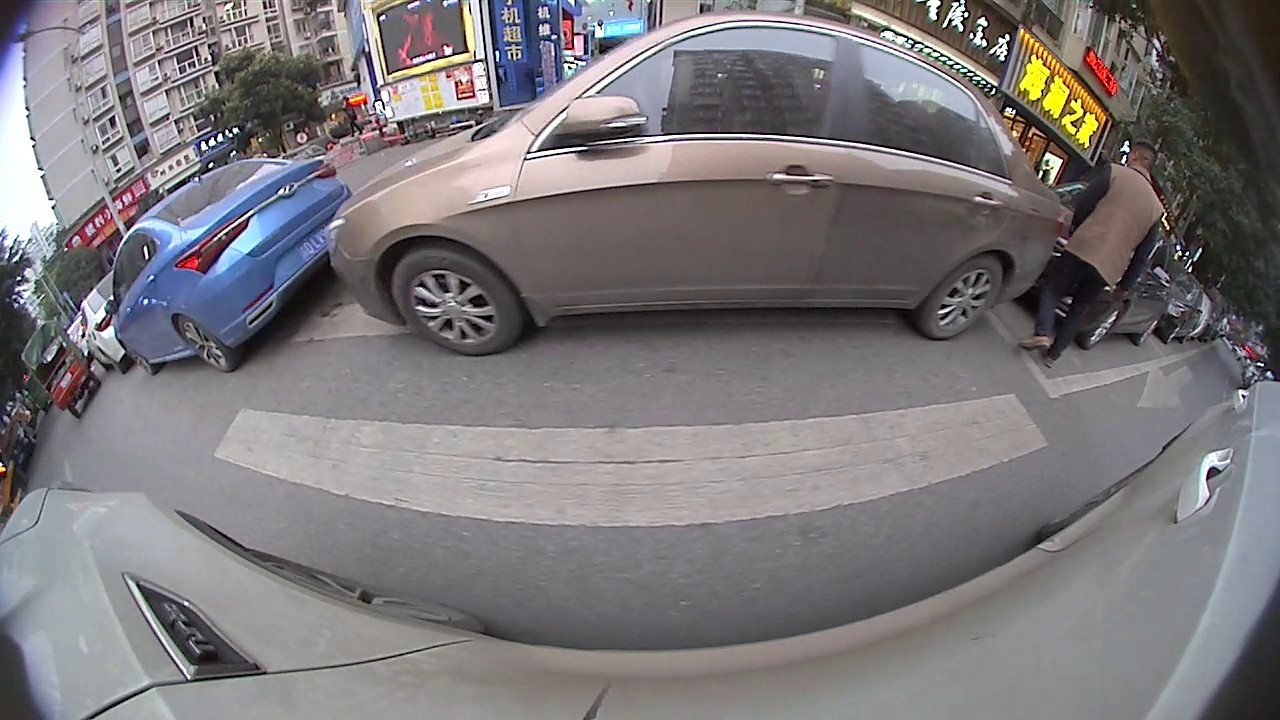car: (355, 1, 1086, 362), (83, 131, 373, 350), (1065, 221, 1173, 380), (46, 237, 113, 350), (1158, 284, 1200, 370), (243, 81, 287, 142)
front: (962, 296, 1043, 362), (171, 283, 240, 353)
rear: (479, 232, 646, 364), (1106, 341, 1147, 382), (99, 314, 138, 354)
